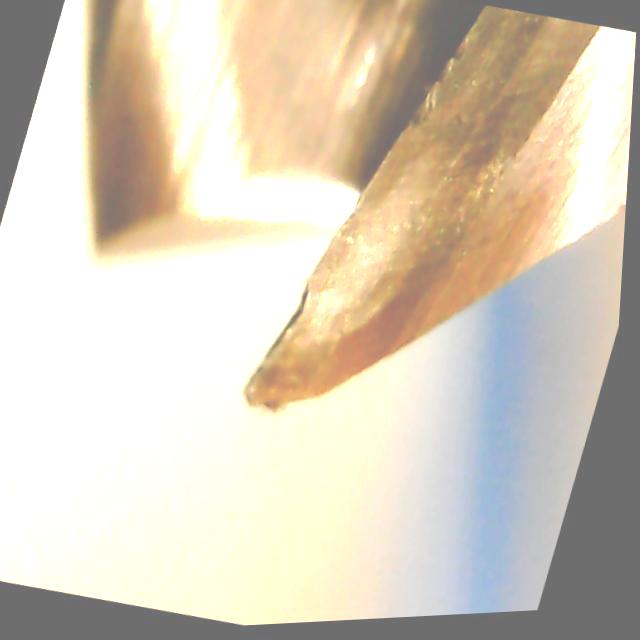Tool-wear-class-1: (218, 174, 464, 458)
